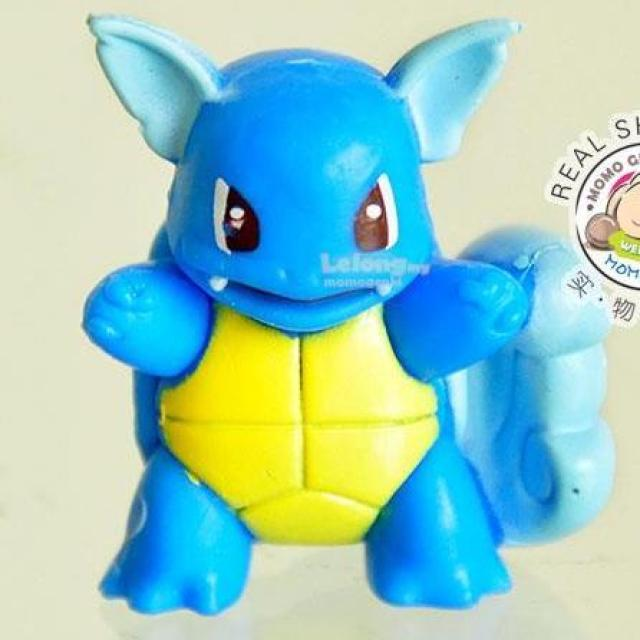Wartortle: (79, 15, 522, 611)
